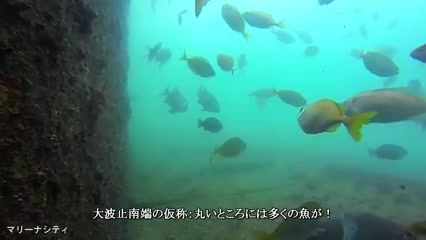azi: (294, 97, 381, 143)
smallfish: (180, 48, 221, 81), (193, 82, 226, 113), (159, 84, 189, 114), (194, 114, 228, 135)
